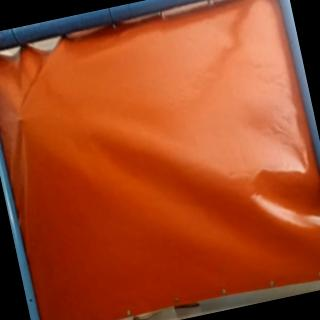Hit-hRxx: (11, 113, 27, 129)
